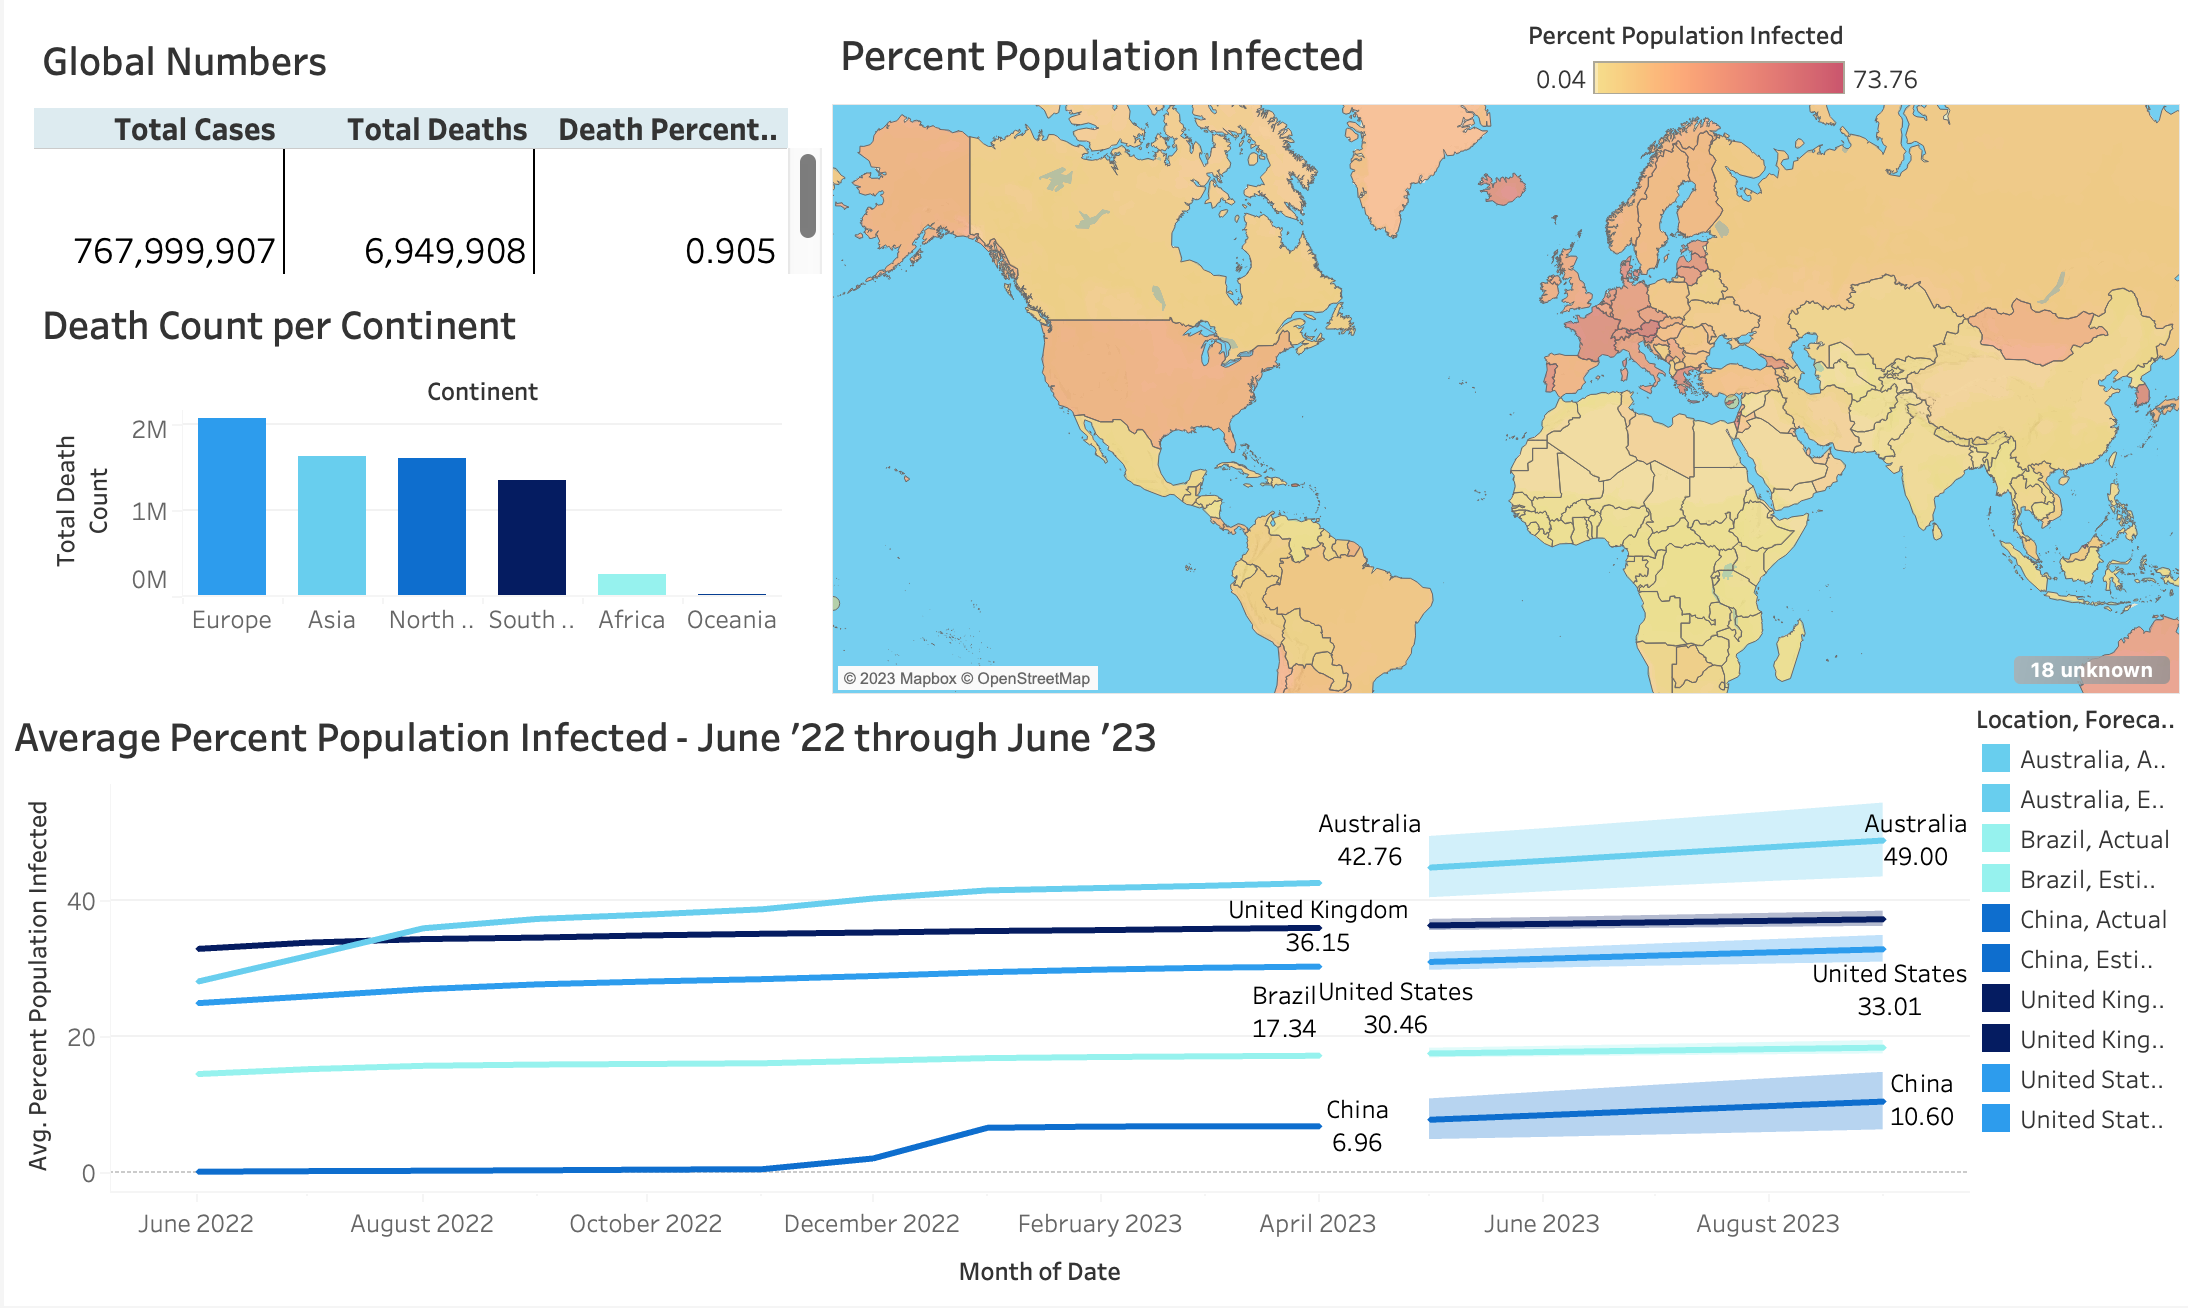

This screenshot's page, from the dashboard's own definition file:
{"tool":"tableau","page":{"name":"Dashboard 1","canvas":[1492,855],"ordinal":0},"visuals":[{"type":"legend","title":"Sheet 3","param":"[federated.1sjsn9j0x2b3sy1azle7l1dbngic].[sum:PercentPopulationInfected:qk]","box":[1021,7,204,48]},{"type":"worksheet","title":"Sheet 3","mark":"Automatic","box":[565,14,922,442]},{"type":"worksheet","title":"Sheet 1","mark":"Automatic","box":[21,19,538,163]},{"type":"worksheet","title":"Sheet 2","mark":"Automatic","rows":["TotalDeathCount"],"cols":["location"],"box":[21,192,511,227]},{"type":"worksheet","title":"Sheet 4","mark":"Automatic","rows":["PercentPopulationInfected"],"cols":["date"],"box":[1,461,1342,392]}]}

Visuals, with their boxes on the page's 1492x855 design canvas (x1, y1, x2, y2). These are canvas units, not pixel positions in the 2188x1308 screenshot, which may show the page scaled, cropped or inside an application window:
"Sheet 3" legend: l=1021, t=7, r=1225, b=55
"Sheet 3" worksheet: l=565, t=14, r=1487, b=456
"Sheet 1" worksheet: l=21, t=19, r=559, b=182
"Sheet 2" worksheet: l=21, t=192, r=532, b=419
"Sheet 4" worksheet: l=1, t=461, r=1343, b=853
